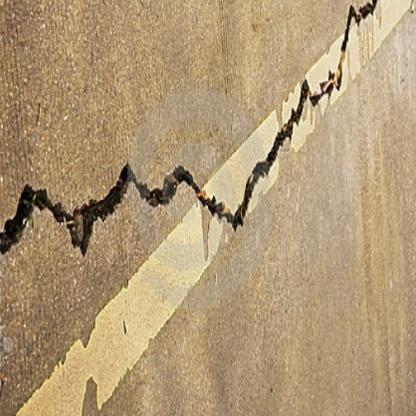Cracks: (0, 0, 390, 282)
